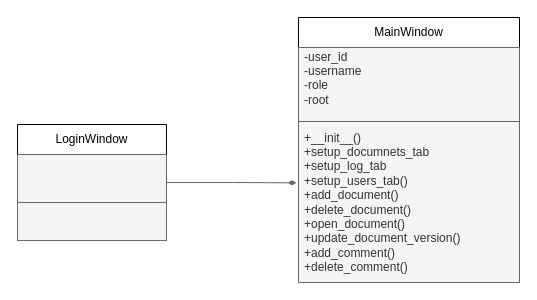
Image size: 537x300. Some labels were removed from this diagram. Here are the shapes that lost their labels. From the top down, the centre of each, then its label:
At (x=91, y=178): "-master -username_entry -password_entry".
At (x=91, y=221): "+__init__() + login()".
